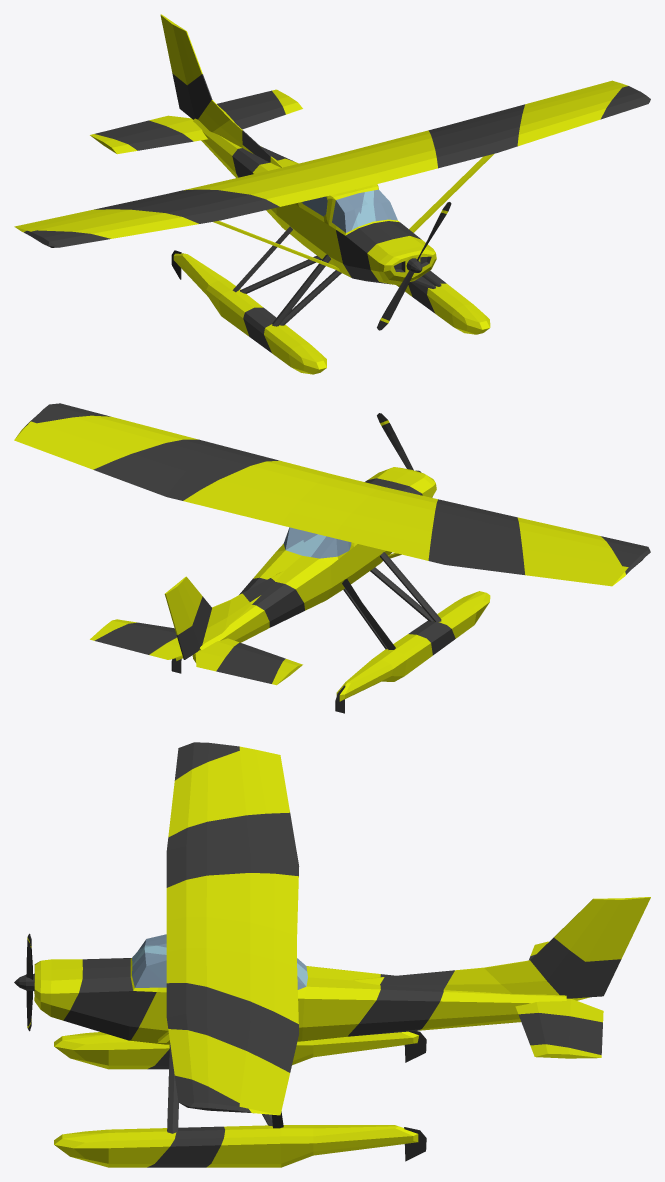
File: Float Plane B.fbx
3 views of the same model, one above another, from view 1: azimuth 30°, elevation 25°; view 2: azimuth 150°, elevation 25°; view 3: azimuth 270°, elevation 25° (orthographic). The views are drawn at different scales.
Parts seen in each view (by area): view 1: Float Plane B; view 2: Float Plane B; view 3: Float Plane B.
Part boxes in pixels (x1,y1,x2,y2): Float Plane B: (14, 14, 650, 374); Float Plane B: (14, 403, 650, 713); Float Plane B: (14, 742, 650, 1167).
Size of the model in its own units: 1379 by 390 by 1022.
